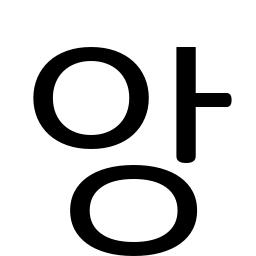Gaji: (166, 77, 212, 124)
